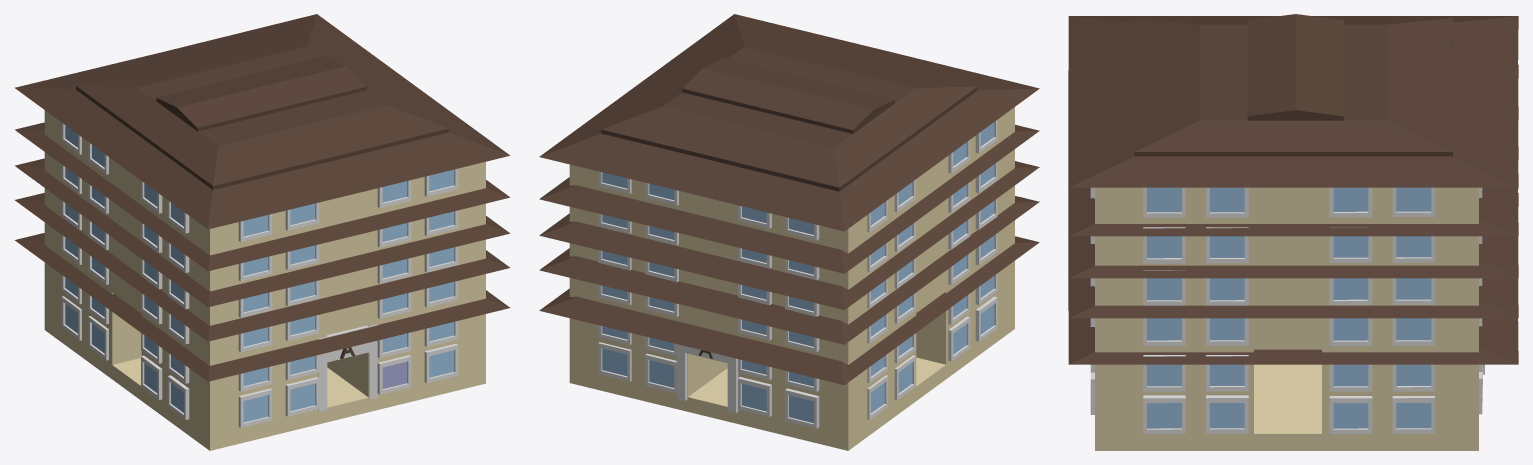
Rendered from Gedung_A 1.fbx.
The picture shows the model from 3 angles, left to right: view 1: azimuth 30°, elevation 25°; view 2: azimuth 150°, elevation 25°; view 3: azimuth 270°, elevation 25°; orthographic projection. The views are drawn at different scales.
Parts seen in each view (by area): view 1: Cube.001, Cube, Cube.126, Cube.123, Cube.124, Cube.125, Cube.127, Cube.003, Cube.002, Cube.024, Cube.025, Cube.099 (+23 smaller); view 2: Cube.001, Cube, Cube.126, Cube.123, Cube.124, Cube.125, Cube.128, Cube.096, Cube.097, Cube.074, Cube.075, Cube.099 (+11 smaller); view 3: Cube.001, Cube, Cube.123, Cube.124, Cube.126, Cube.125, Cube.073, Cube.072, Cube.050, Cube.051, Cube.057, Cube.067 (+18 smaller).
Part boxes in pixels (x1,y1,x2,y2): Cube.001: (14,14,509,229); Cube: (44,110,485,450); Cube.126: (14,233,509,381); Cube.123: (15,122,510,271); Cube.124: (15,158,510,307); Cube.125: (15,193,509,341); Cube.127: (318,324,377,411); Cube.003: (424,343,458,383); Cube.002: (377,355,411,394); Cube.024: (285,377,319,416); Cube.025: (238,388,272,427); Cube.099: (167,375,189,419); Cube.001: (539,14,1039,231); Cube: (569,107,1014,450); Cube.126: (539,236,1039,385); Cube.123: (539,124,1039,273); Cube.124: (539,161,1039,309); Cube.125: (539,196,1039,344); Cube.128: (676,344,738,413); Cube.096: (785,388,819,428); Cube.097: (738,377,771,416); Cube.074: (598,342,631,381); Cube.075: (645,353,676,393); Cube.099: (975,296,997,341); Cube.001: (1068,14,1518,187); Cube: (1095,187,1478,450); Cube.123: (1068,64,1518,236); Cube.124: (1068,107,1518,278); Cube.126: (1068,193,1518,364); Cube.125: (1068,147,1518,318); Cube.073: (1143,395,1185,433); Cube.072: (1206,395,1248,433); Cube.050: (1329,396,1372,433); Cube.051: (1392,396,1434,433); Cube.057: (1329,187,1372,217); Cube.067: (1206,187,1248,217).
Size of the model in its own units: 4358 by 3679 by 4832.
